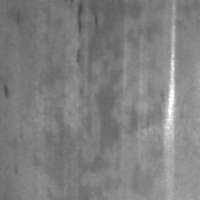scratches: (164, 1, 179, 164)
